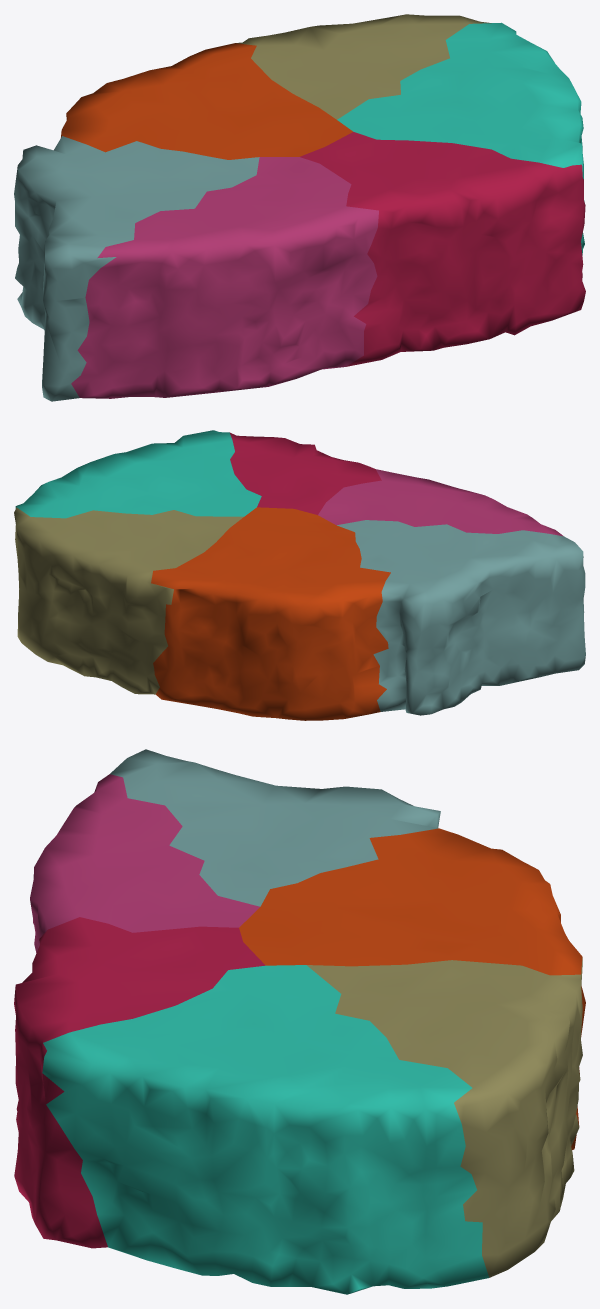
3 renders of one model, top to bottom at view 1: azimuth 30°, elevation 25°; view 2: azimuth 150°, elevation 25°; view 3: azimuth 270°, elevation 25°, orthographic. The views are drawn at different scales.
Visible parts, largest first — view 1: attribwrangle4; view 2: attribwrangle4; view 3: attribwrangle4.
Boxes of the visible parts, <box> form: attribwrangle4: <box>14,14,585,401</box>; attribwrangle4: <box>14,430,585,720</box>; attribwrangle4: <box>14,749,585,1294</box>.
Bounding box in the file's own units: 25.69 × 6.26 × 16.91.
